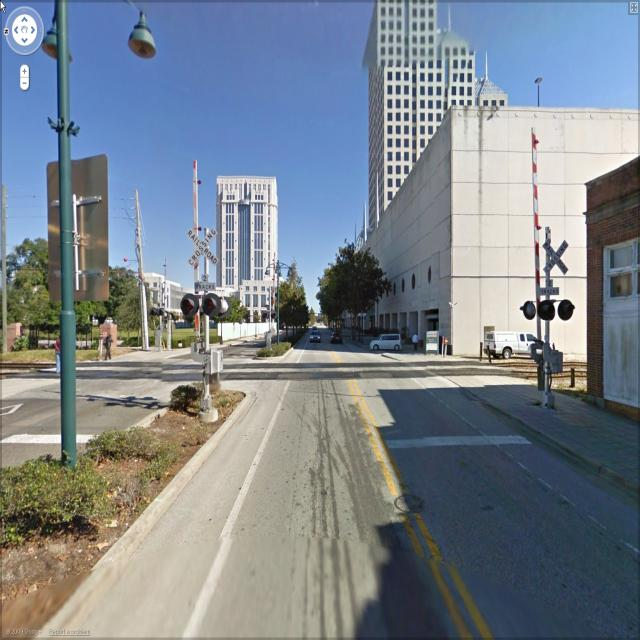b_1: (372, 96, 590, 368), (370, 6, 506, 196), (582, 166, 640, 413), (210, 171, 276, 344)
b_2: (115, 253, 212, 333)
